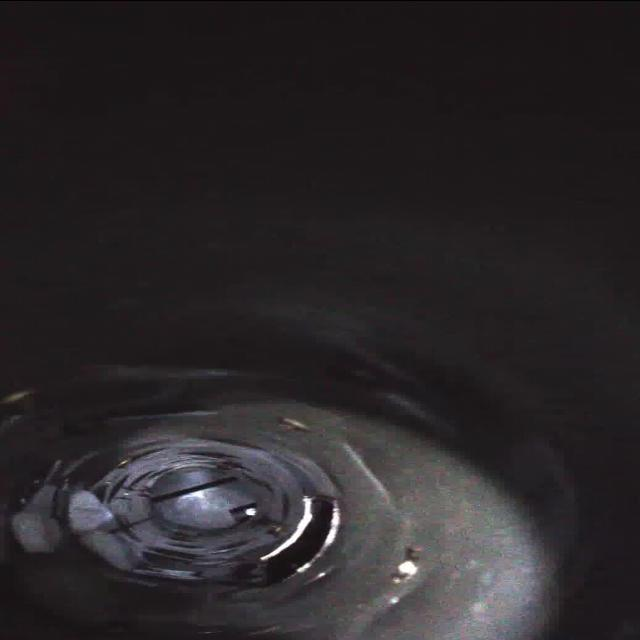crack: (172, 436, 264, 468), (142, 530, 206, 576), (95, 466, 161, 506), (208, 534, 256, 578), (112, 436, 174, 468), (88, 509, 142, 541), (276, 482, 302, 518)
hole: (264, 488, 348, 586)
